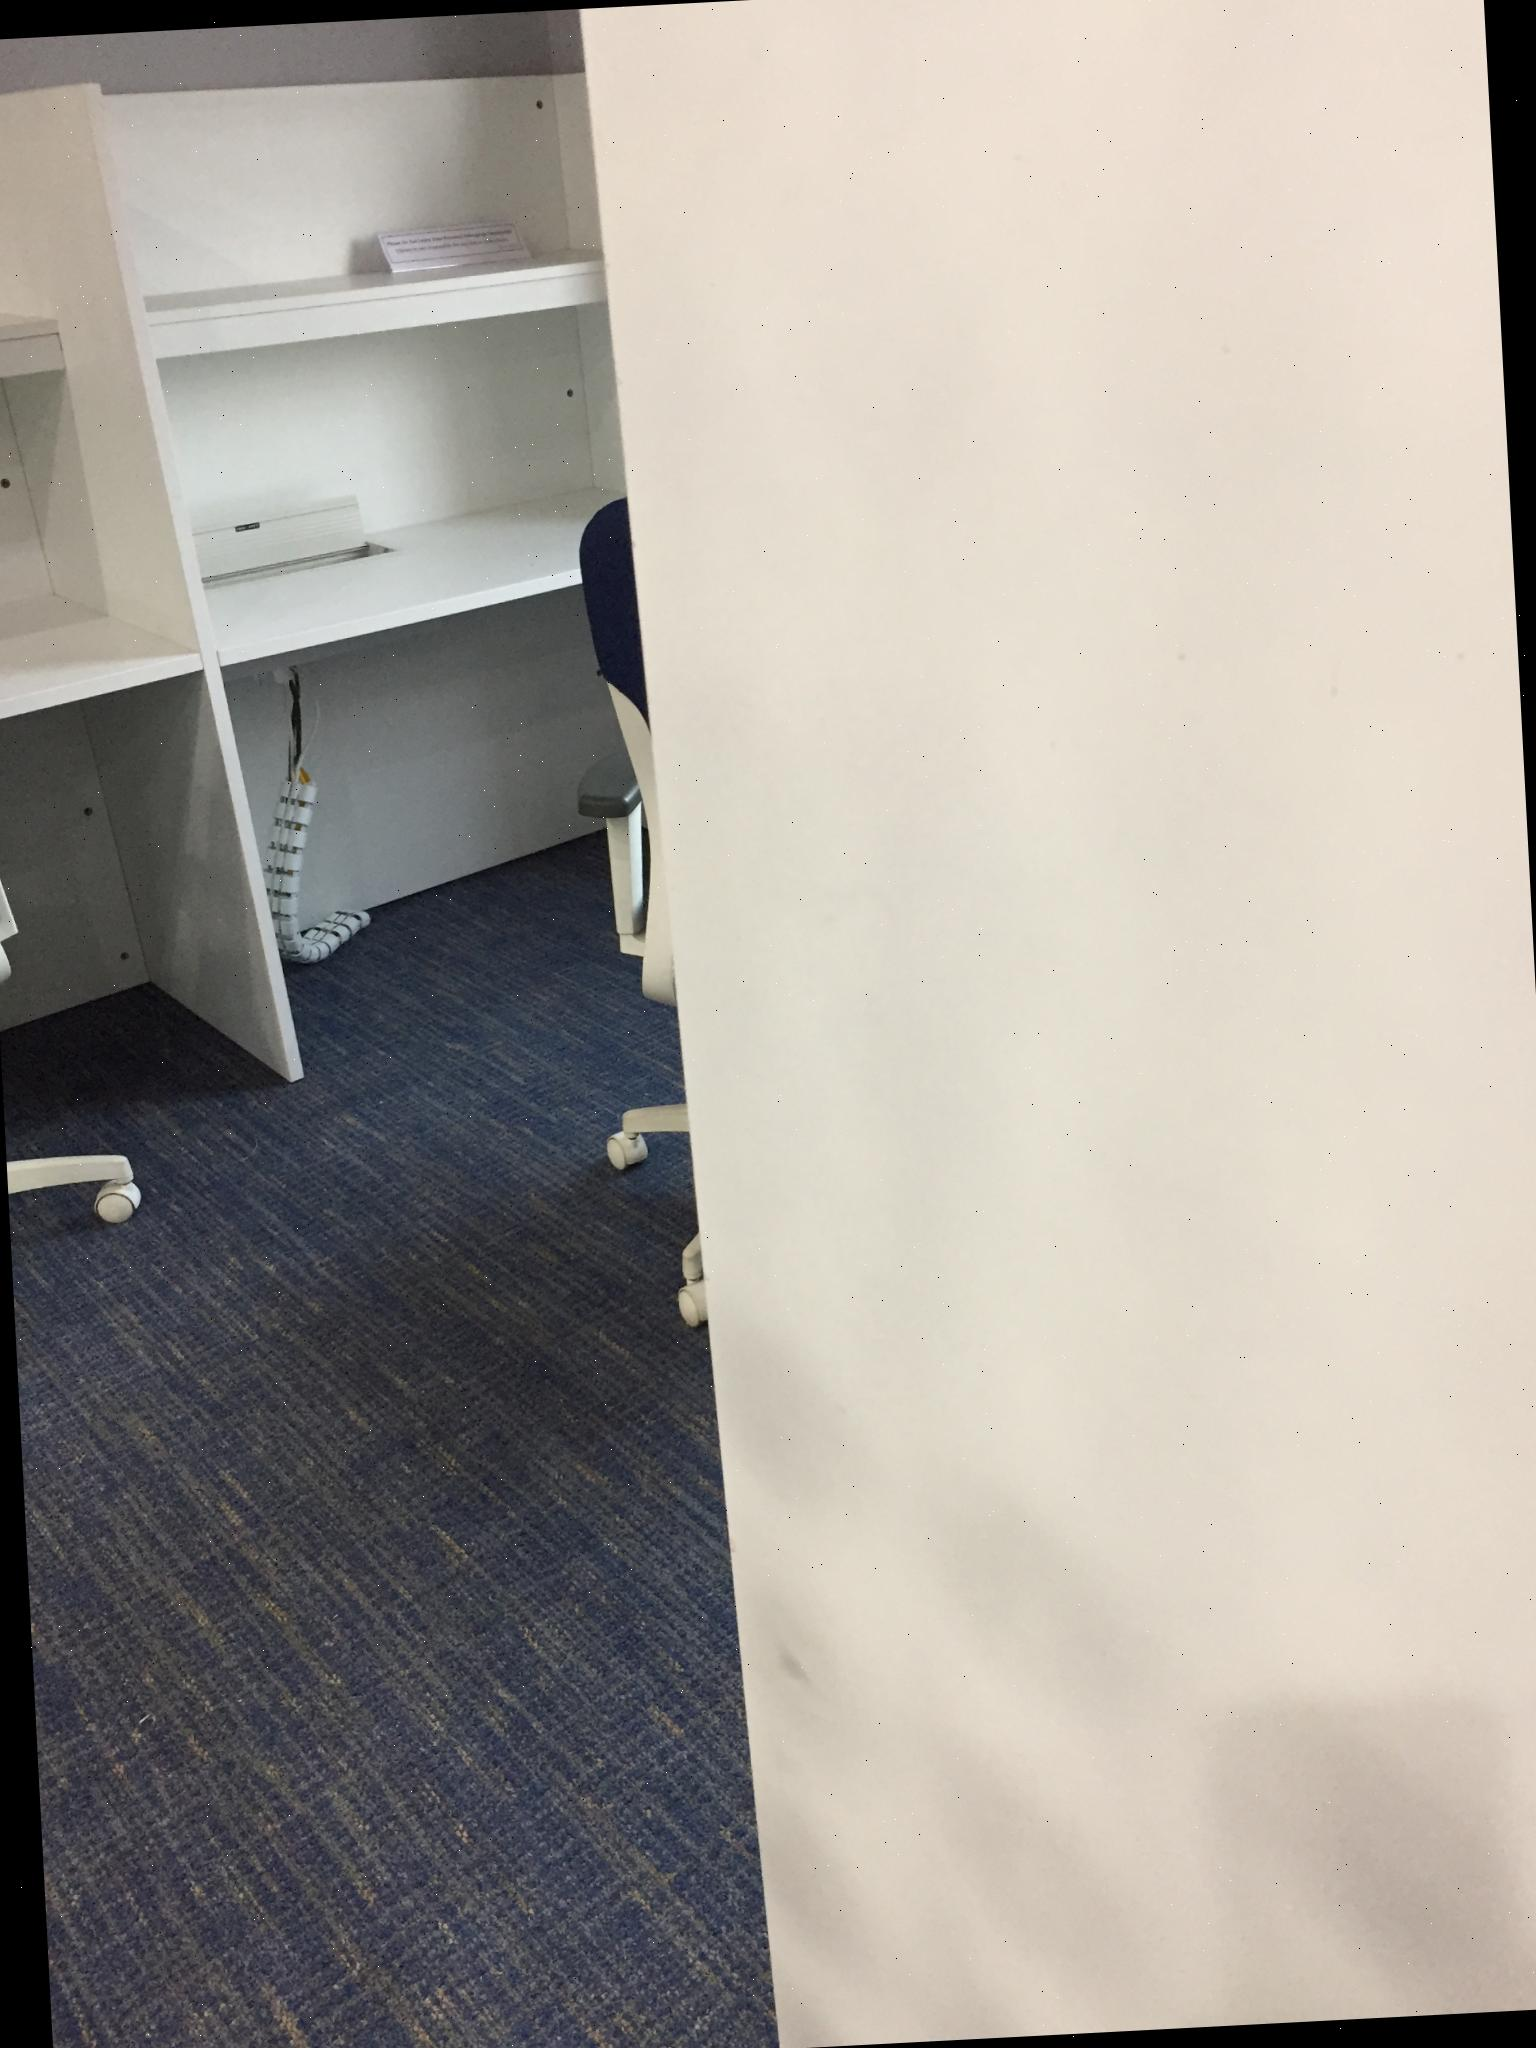chair: (563, 492, 705, 1332)
